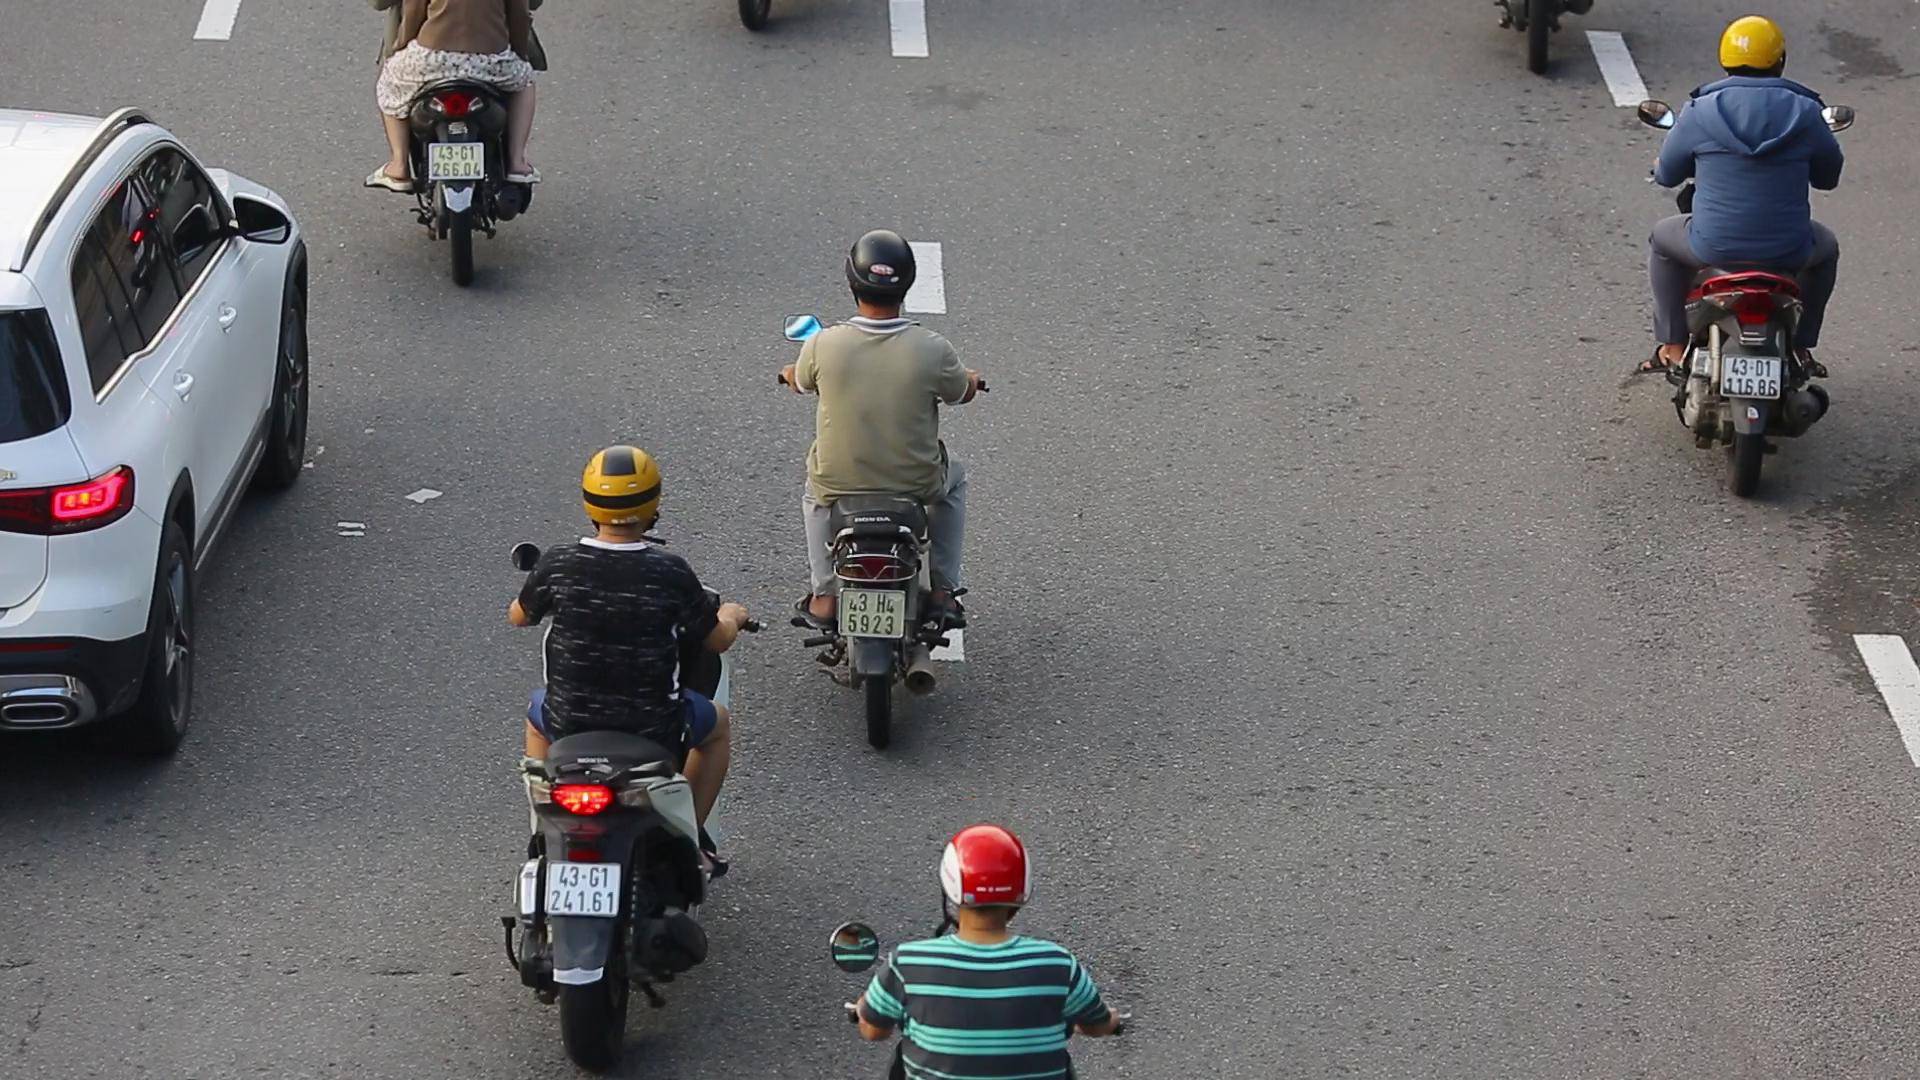motobike: (502, 440, 762, 1080), (778, 220, 989, 766), (1635, 1, 1857, 498)
